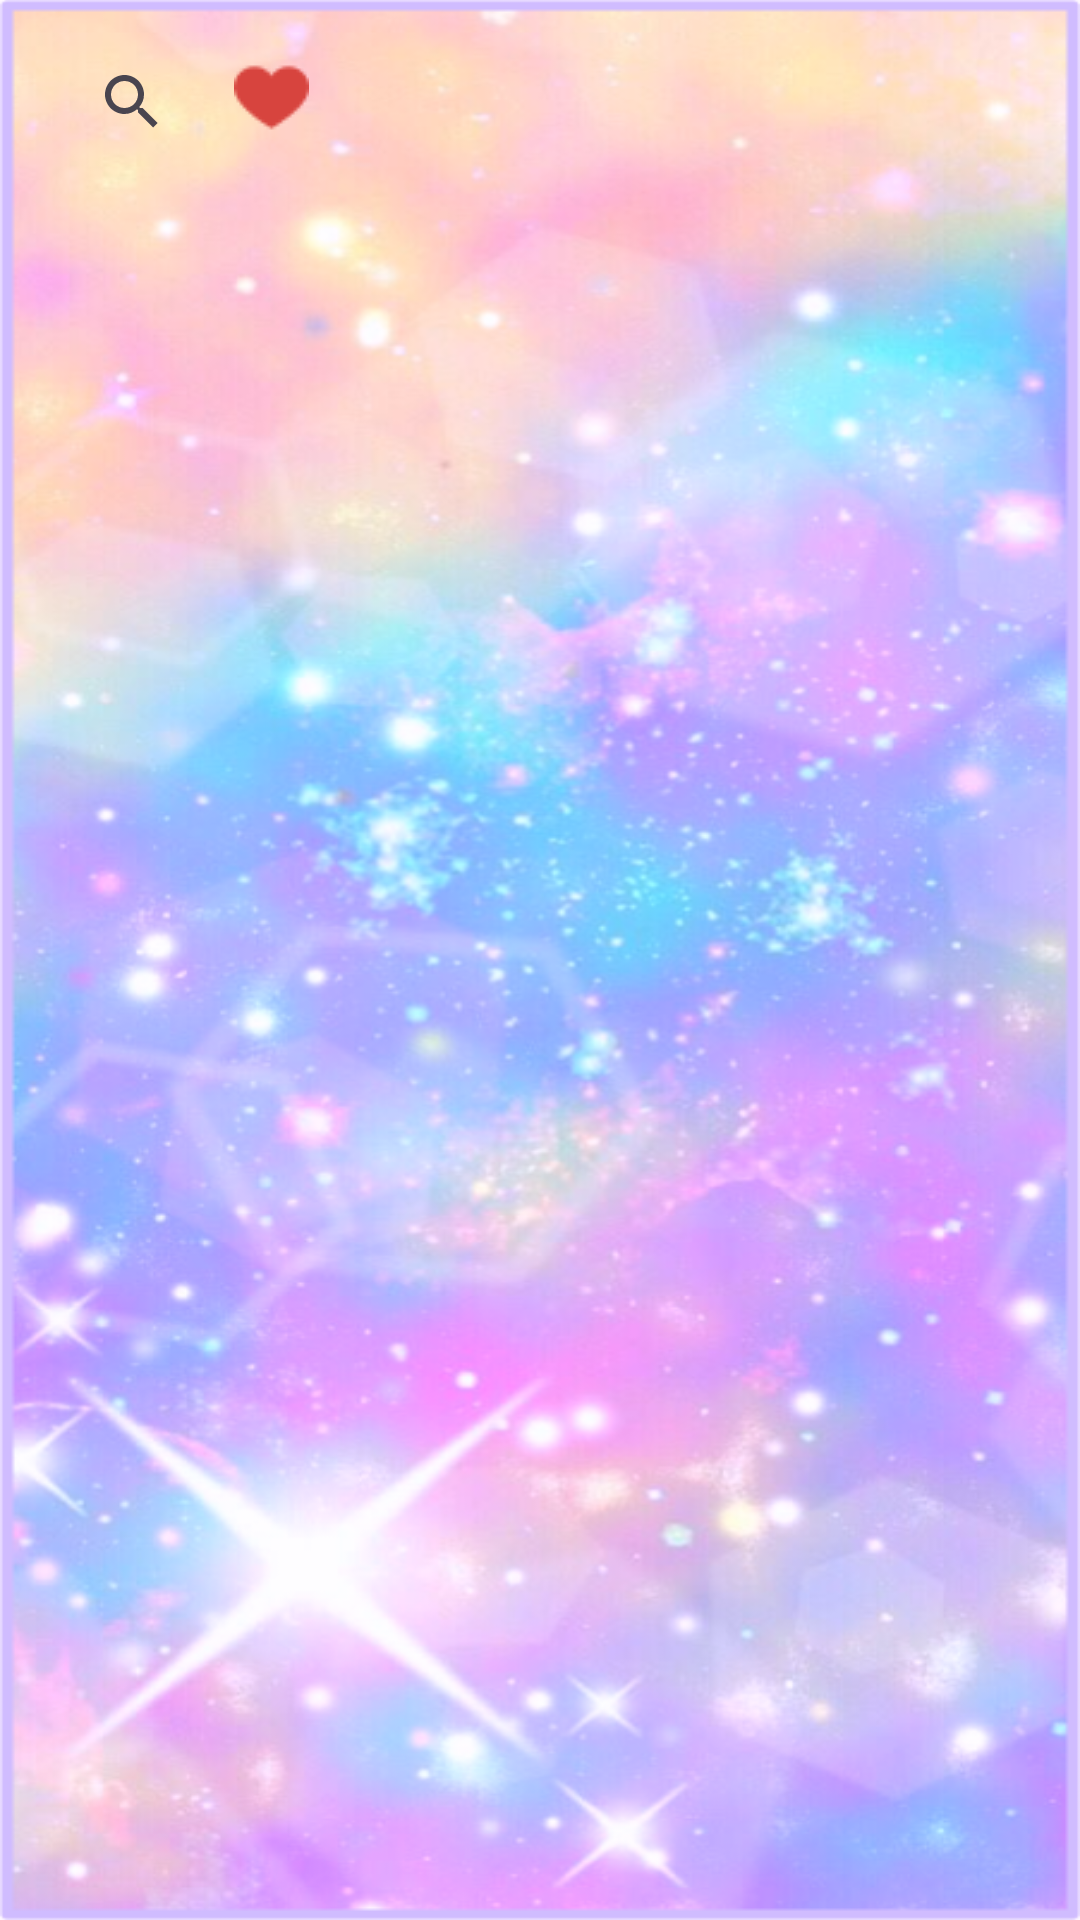

Screen size 1080×1920. Icon name, then its center in pixels as [x,y]:
좋아요: [271,97]
